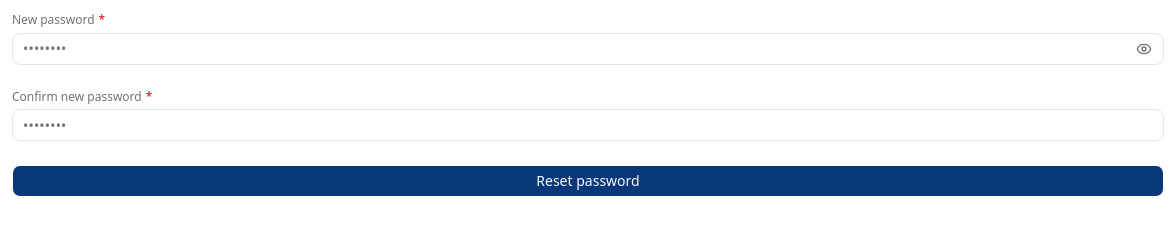
Test case: ResetPasswordForm (S2) — behavioral (VT) › rejects mismatched confirmation
Type "Password123" into the password field with id "reset-password". click: (588, 48)
box: [12,32,1164,64]
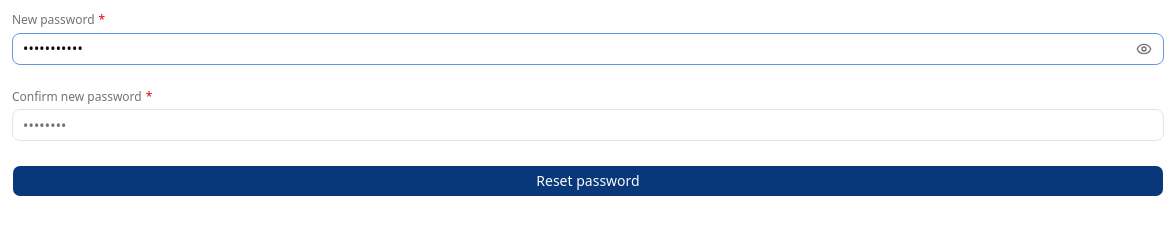
Type "Different123" into the password field with id "reset-password-confirmation". click: (588, 125)
box: [12,109,1164,141]
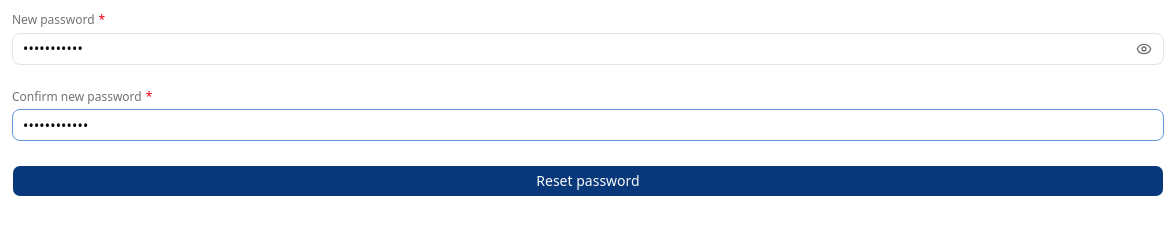
Click the button "Reset password". click: (588, 181)
box: [12,165,1164,197]
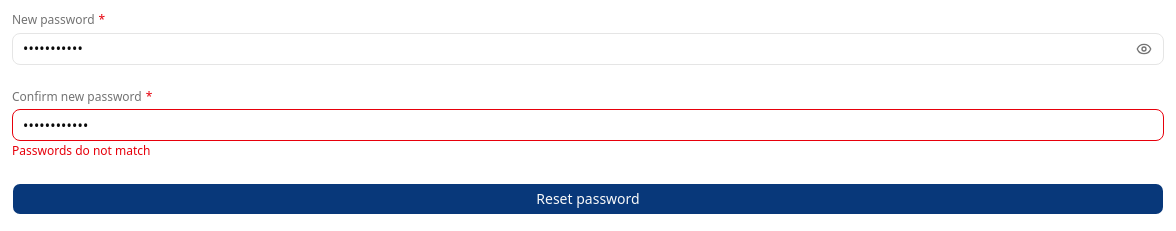
Result: the text "Passwords do not match" is shown at [12,142,150,159]
